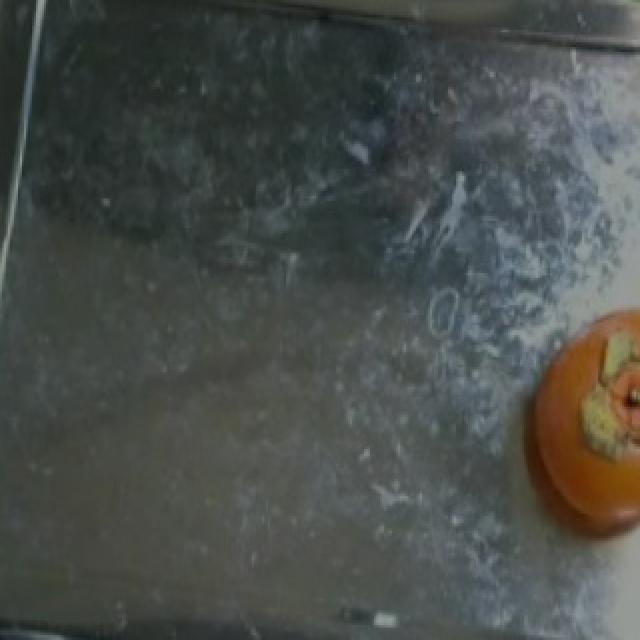Fruit: (498, 300, 640, 578)
